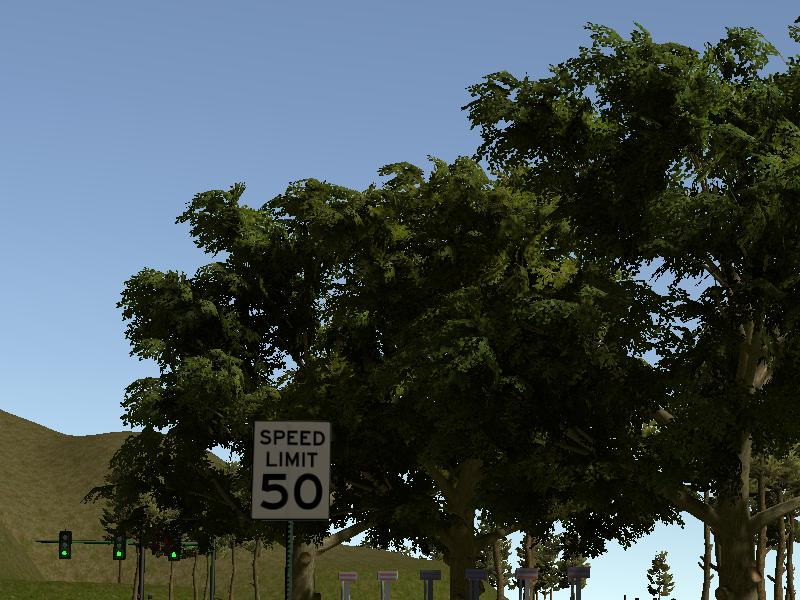Green: (60, 530, 71, 558), (113, 534, 125, 558)
